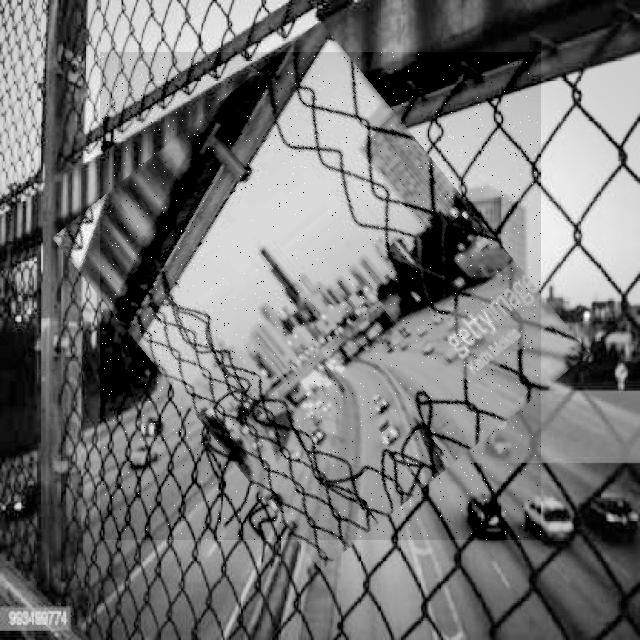anomaly-fence: (100, 52, 541, 540)
